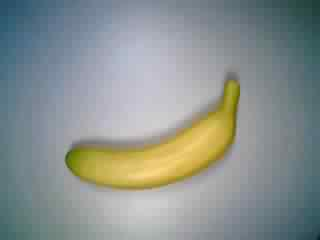banana: (62, 73, 248, 200)
